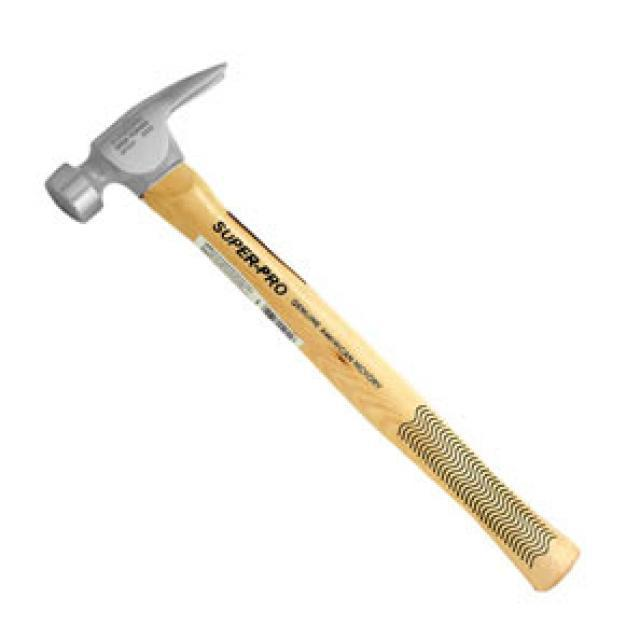hammer: (32, 43, 583, 619)
